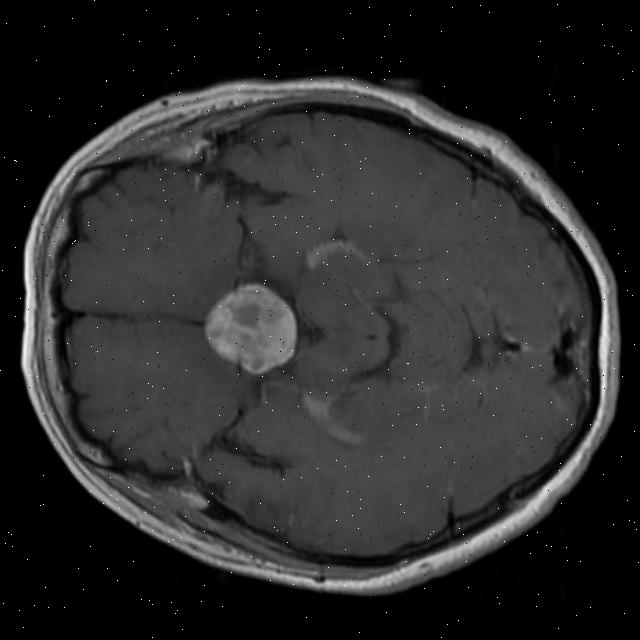Pituitary: (200, 279, 298, 375)
